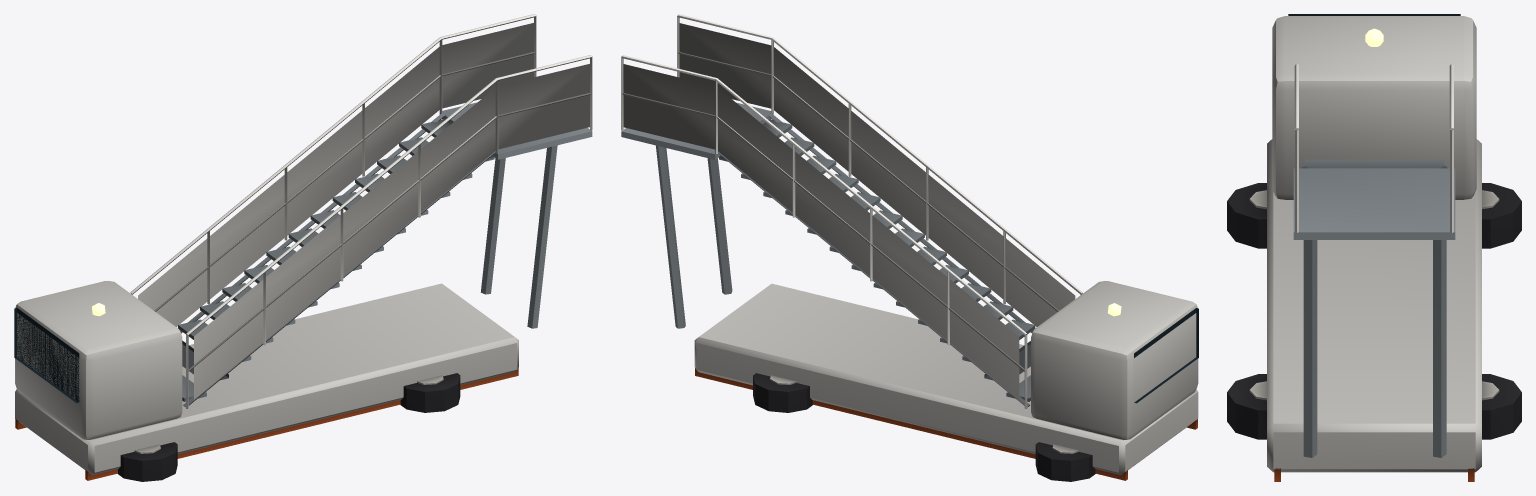
File: airstairs.glb
The picture shows the model from 3 angles, left to right: view 1: azimuth 30°, elevation 25°; view 2: azimuth 150°, elevation 25°; view 3: azimuth 270°, elevation 25°; orthographic projection. The views are drawn at different scales.
Visible parts, largest first — view 1: airstairs_mesh; view 2: airstairs_mesh; view 3: airstairs_mesh.
Boxes of the visible parts, box(x1,y1,x2,y2) form: airstairs_mesh: box(14, 14, 592, 481); airstairs_mesh: box(621, 14, 1198, 481); airstairs_mesh: box(1227, 14, 1521, 481).
Bounding box in the file's own units: 7.71 × 4.2 × 2.74.
